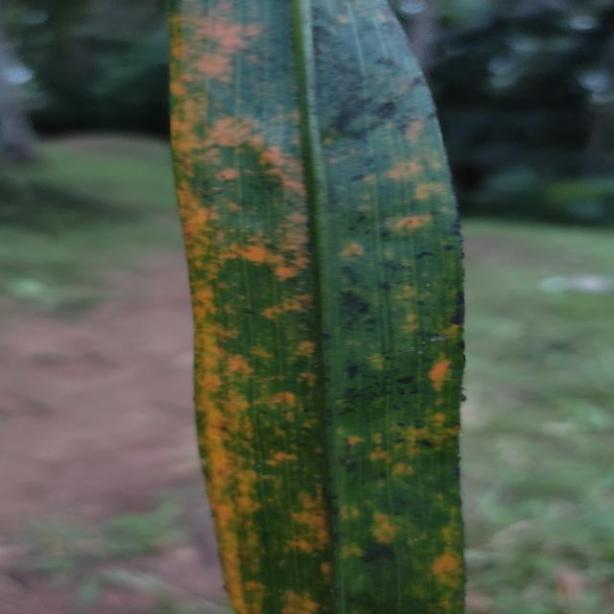Kalium: (166, 3, 470, 614)
